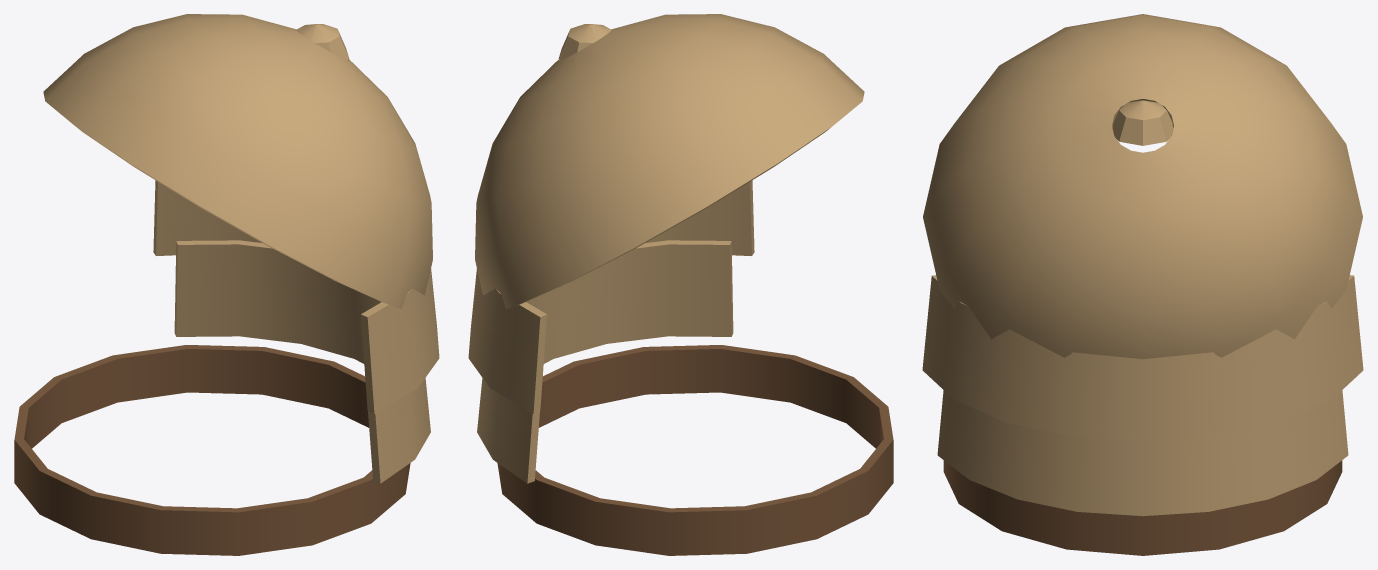
The model's file is spaulder_r.glb.
3 renders of one model, left to right at view 1: azimuth 30°, elevation 25°; view 2: azimuth 150°, elevation 25°; view 3: azimuth 270°, elevation 25°, orthographic.
Parts seen in each view (by area): view 1: OUT; view 2: OUT; view 3: OUT.
Boxes of the visible parts, bbox=[...] form: OUT: bbox=[14, 14, 439, 555]; OUT: bbox=[468, 14, 893, 555]; OUT: bbox=[922, 14, 1363, 555].
Size of the model in its own units: 0.178 by 0.201 by 0.1835.
